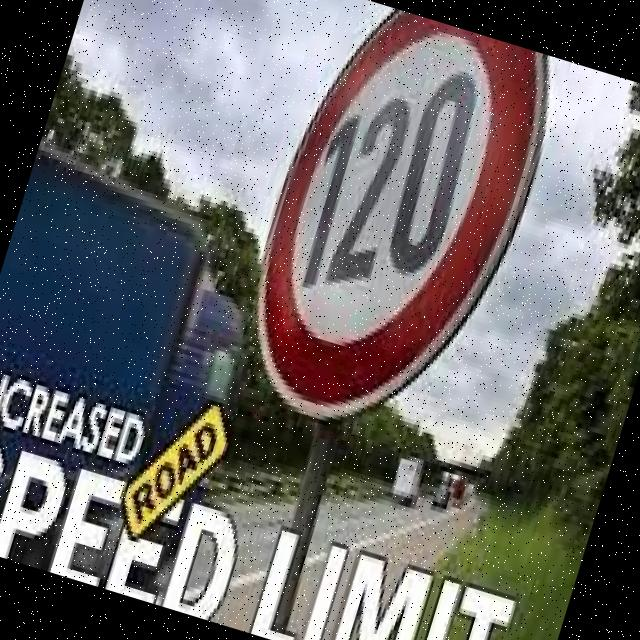speed_limit_120: (212, 0, 571, 463)
